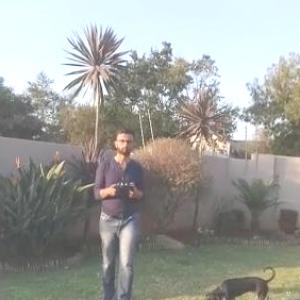follow: (90, 119, 147, 299)
null: (201, 262, 279, 299)
